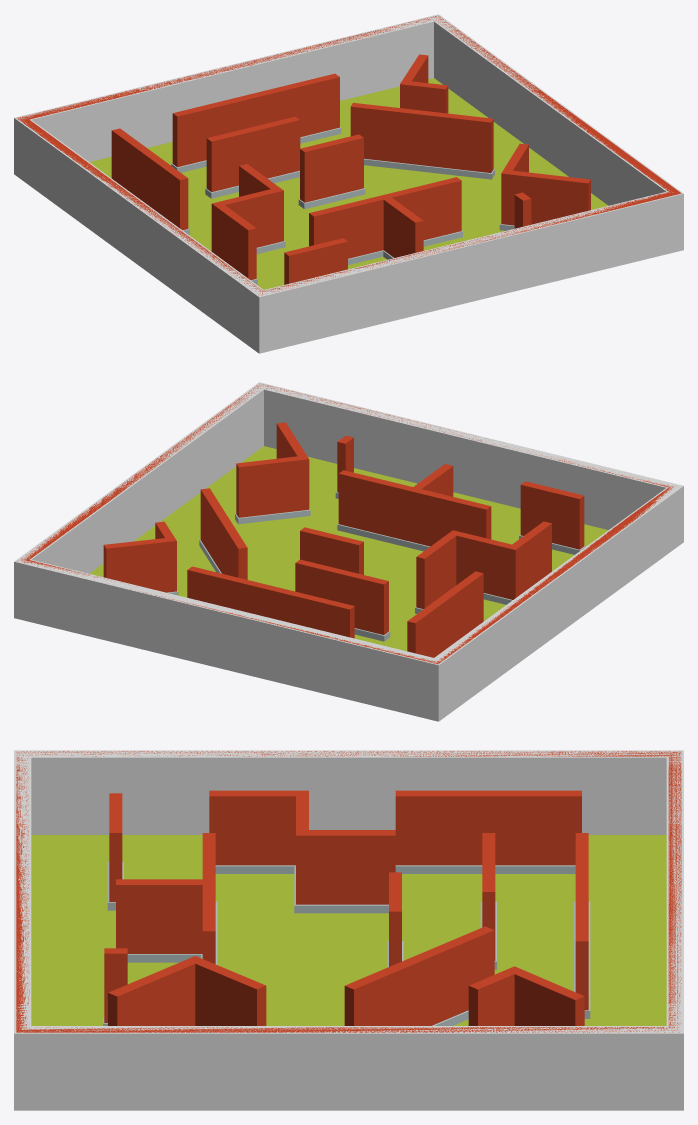
File: Location1.fbx
3 renders of one model, top to bottom at view 1: azimuth 30°, elevation 25°; view 2: azimuth 150°, elevation 25°; view 3: azimuth 270°, elevation 25°, orthographic. The views are drawn at different scales.
Visible parts, largest first — view 1: outer_wall.01, wall.01, floor.01; view 2: outer_wall.01, wall.01, floor.01; view 3: outer_wall.01, wall.01, floor.01.
Boxes of the visible parts, x1,y1,x2,y2 form: outer_wall.01: (14, 14, 683, 353); wall.01: (17, 15, 681, 295); floor.01: (89, 78, 608, 289); outer_wall.01: (14, 382, 683, 721); wall.01: (17, 383, 676, 664); floor.01: (89, 446, 608, 651); outer_wall.01: (14, 750, 683, 1110); wall.01: (16, 751, 681, 1032); floor.01: (31, 835, 666, 1025).
Bounding box in the file's own units: 1438 × 183 × 1438.
